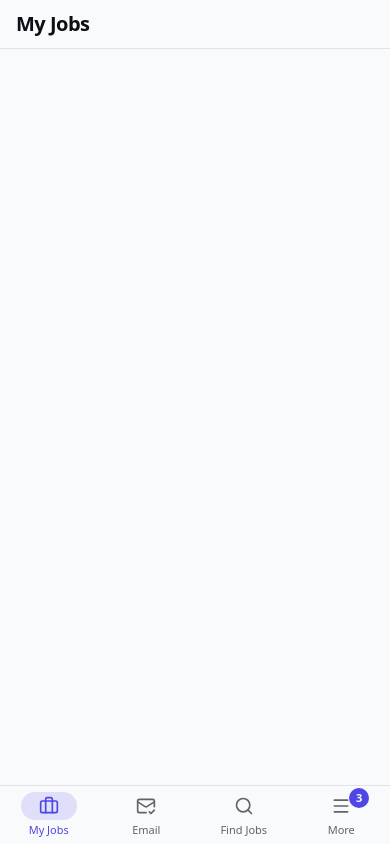
Scenario: phone tab bar › shows the owner's new bugs on More and on Admin (spec 032)
Step 1. Click the button "3 More" → x=341, y=815, box 292,786 -> 389,843
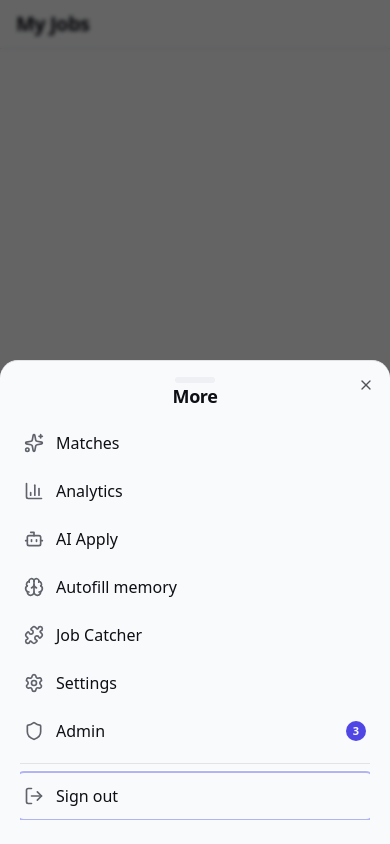
Expected: the link "Admin 3" is shown, 24,720 -> 366,742
